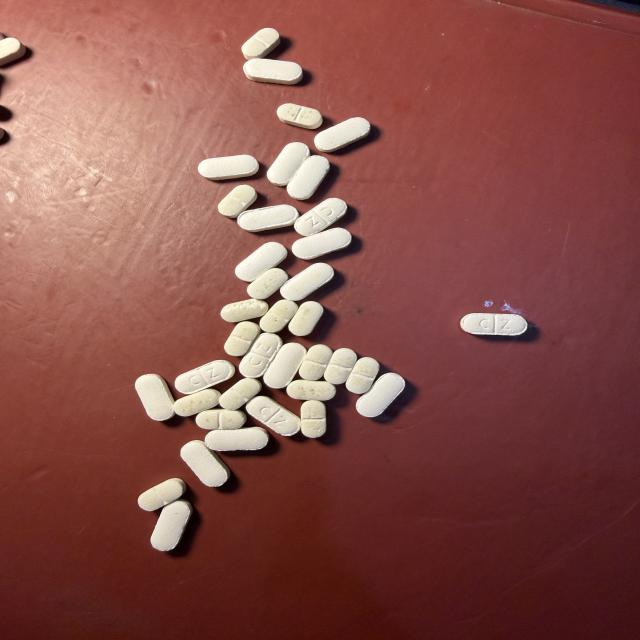pill: (181, 440, 229, 486), (246, 396, 300, 436), (356, 373, 405, 417), (151, 500, 192, 551), (175, 360, 235, 394), (235, 242, 287, 281), (280, 263, 333, 301), (295, 198, 347, 236), (263, 343, 306, 388), (239, 333, 282, 377), (267, 142, 310, 186), (315, 118, 370, 152), (287, 156, 329, 200), (292, 228, 351, 259), (135, 374, 174, 420), (237, 205, 298, 232), (138, 478, 186, 511), (198, 155, 259, 180), (205, 427, 268, 451), (243, 59, 302, 84), (461, 313, 527, 335), (218, 185, 257, 218), (247, 268, 288, 299), (220, 378, 261, 409), (224, 321, 260, 356), (174, 389, 220, 416), (346, 357, 379, 394), (260, 300, 298, 332), (289, 301, 323, 336), (324, 348, 357, 384), (242, 28, 280, 59), (299, 345, 332, 380), (277, 104, 322, 129), (221, 299, 268, 322), (196, 409, 246, 429), (287, 380, 335, 400), (301, 400, 326, 437), (0, 38, 26, 65)
